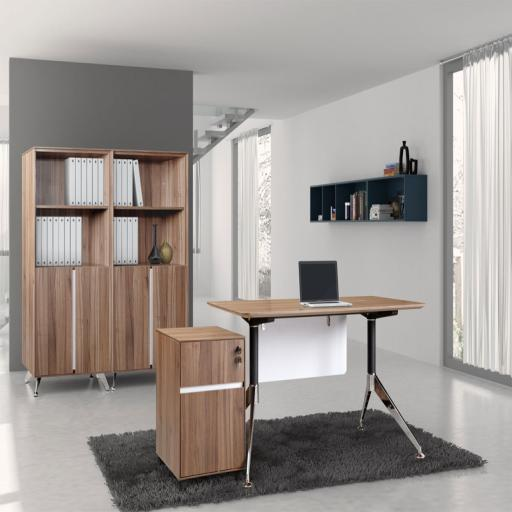desk: (208, 297, 426, 486)
wall: (9, 56, 193, 373), (271, 63, 443, 368)
